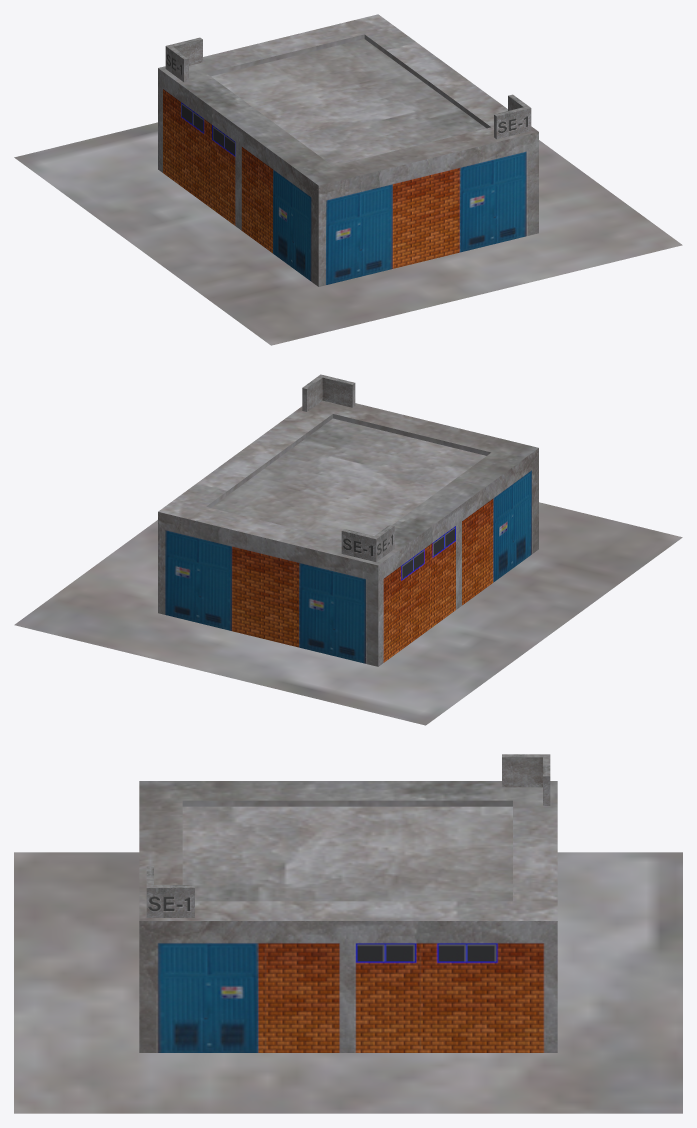
The picture shows the model from 3 angles, top to bottom: view 1: azimuth 30°, elevation 25°; view 2: azimuth 150°, elevation 25°; view 3: azimuth 270°, elevation 25°; orthographic projection. The views are drawn at different scales.
Parts seen in each view (by area): view 1: N17_lowpoly; view 2: N17_lowpoly; view 3: N17_lowpoly.
Boxes of the visible parts, x1,y1,x2,y2 form: N17_lowpoly: [14, 14, 682, 345]; N17_lowpoly: [14, 374, 682, 725]; N17_lowpoly: [14, 754, 682, 1113].
Bounding box in the file's own units: 1652 × 477 × 1787.
